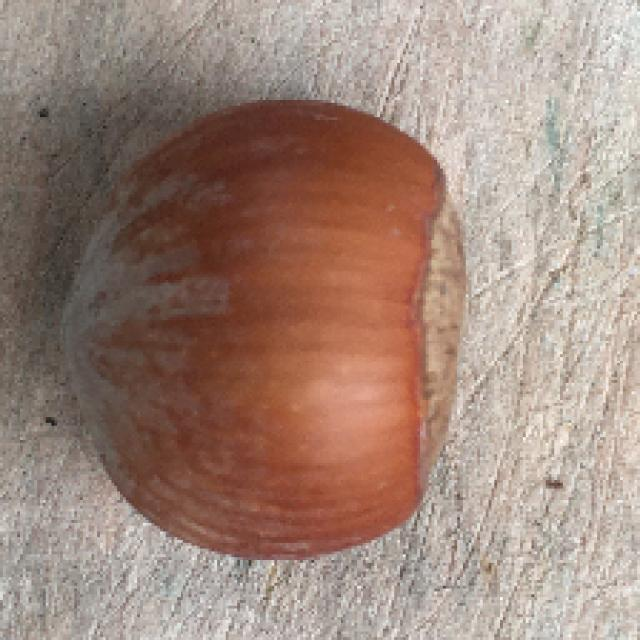qualityHazelnut: (44, 97, 486, 561)
